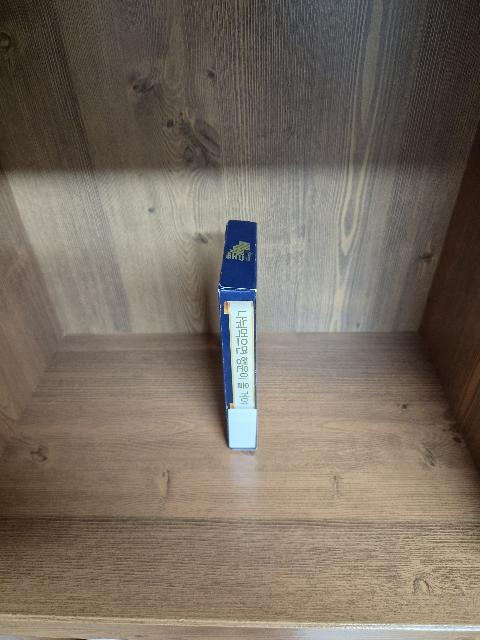pepero: (217, 220, 258, 450)
